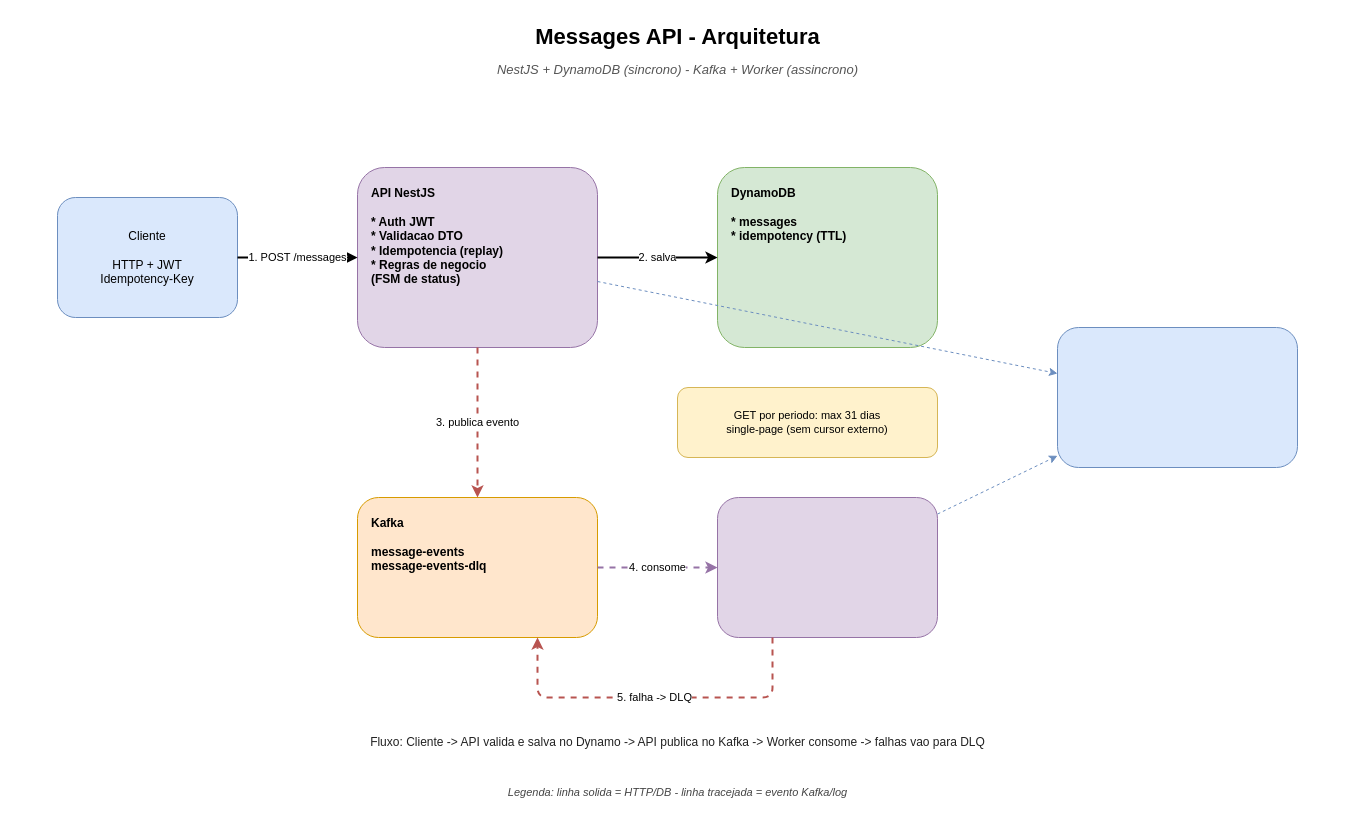
Some shapes in this 1354 by 824 pixel diagram are drawn without their labels. Each missing label, with the box of its shape:
Observabilidade Logs Pino + x-request-id Alarme DLQ > 0: (1056, 326, 1298, 468)
Worker NestJS * Consome eventos * Retry com backoff * Falha -> DLQ: (716, 496, 938, 638)
